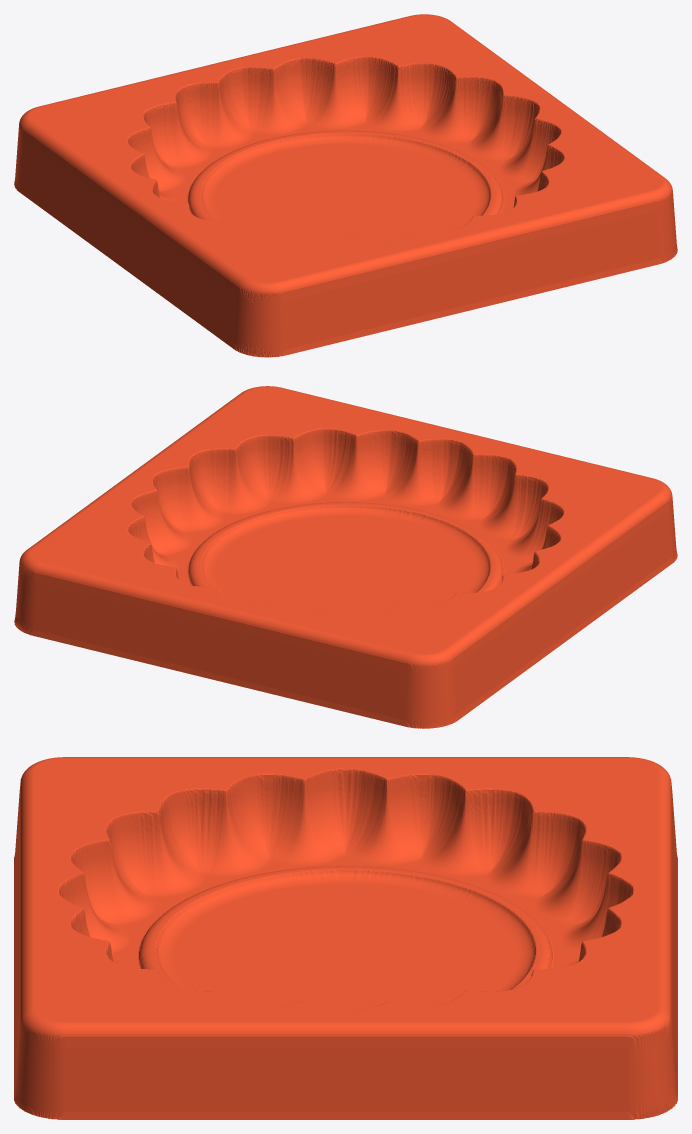
Rendered from mold.glb.
3 views of the same model, one above another, from view 1: azimuth 30°, elevation 25°; view 2: azimuth 150°, elevation 25°; view 3: azimuth 270°, elevation 25° (orthographic). The views are drawn at different scales.
Parts seen in each view (by area): view 1: geometry_0; view 2: geometry_0; view 3: geometry_0.
Boxes of the visible parts, x1,y1,x2,y2 form: geometry_0: [14, 14, 677, 357]; geometry_0: [14, 386, 677, 728]; geometry_0: [14, 757, 677, 1119].
Size of the model in its own units: 0.1178 by 0.0175 by 0.1178.
